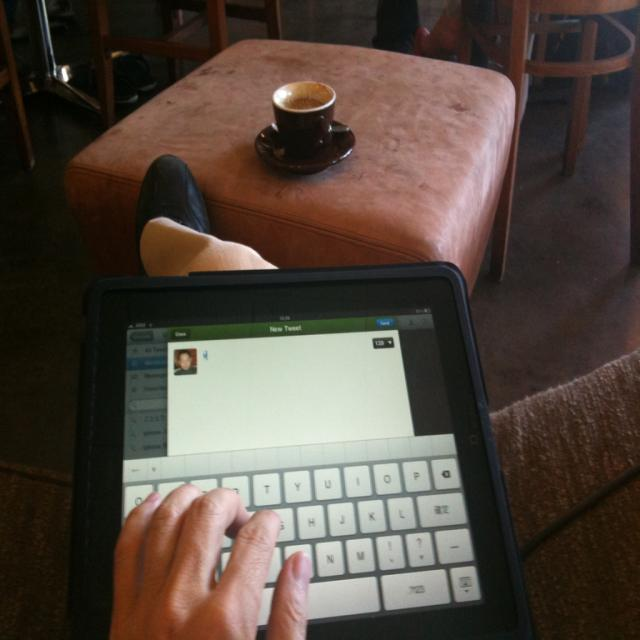Coffee: (278, 80, 332, 110)
